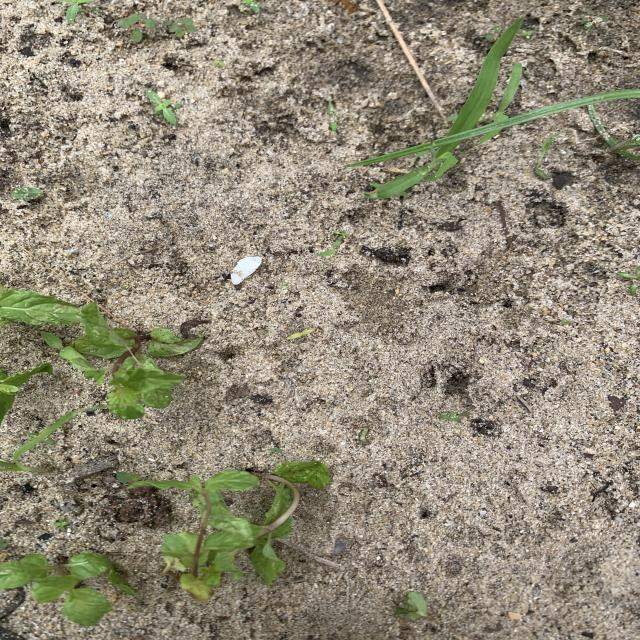crop: (160, 461, 327, 602), (43, 304, 200, 419), (0, 551, 137, 624), (1, 283, 85, 325), (1, 369, 32, 420)
weed: (365, 20, 521, 199), (0, 412, 75, 472), (119, 15, 195, 42), (147, 91, 179, 123), (534, 136, 557, 179), (57, 0, 94, 21), (316, 230, 347, 255), (618, 266, 639, 295), (580, 9, 607, 29), (12, 187, 42, 199), (117, 472, 140, 486), (327, 101, 337, 132), (440, 411, 467, 422), (288, 328, 314, 338), (239, 1, 259, 11), (358, 428, 368, 443), (519, 30, 531, 39), (54, 519, 67, 527)
